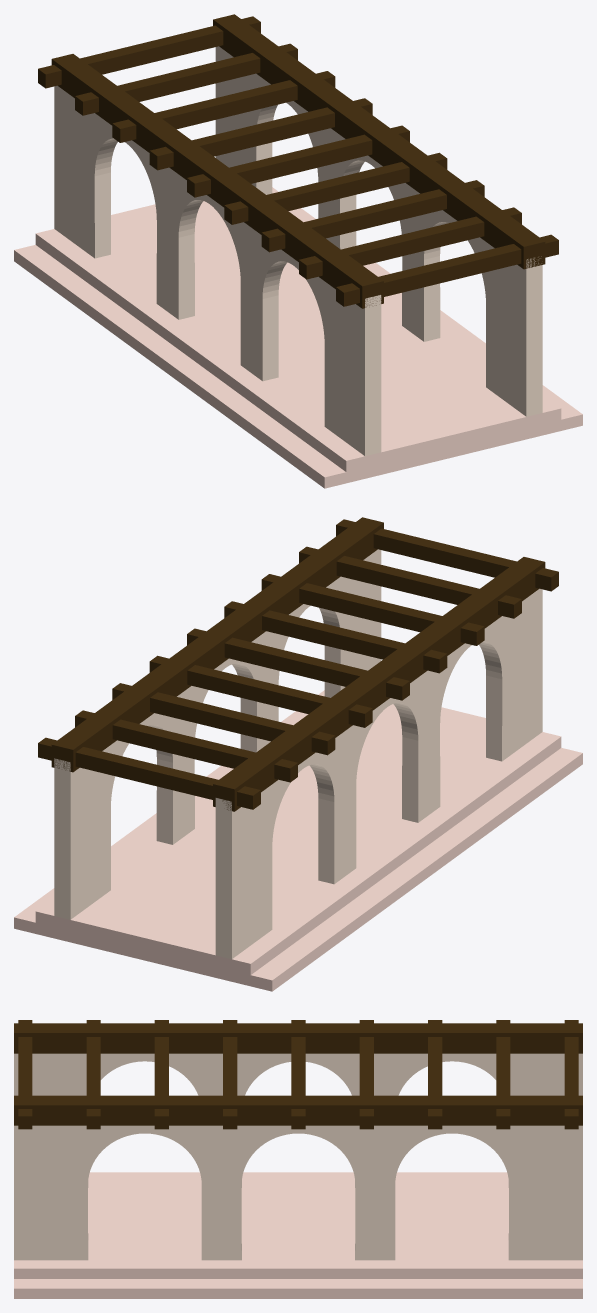
Rendered from spanish_villa_passage_01.glb.
The picture shows the model from 3 angles, top to bottom: view 1: azimuth 30°, elevation 25°; view 2: azimuth 150°, elevation 25°; view 3: azimuth 270°, elevation 25°; orthographic projection. The views are drawn at different scales.
Parts seen in each view (by area): view 1: Floor, Beams, Wall.002, Wall.001, Cube.005, Cube.004, Stair.001, Stair.002; view 2: Floor, Beams, Wall.002, Wall.001, Cube.005, Cube.004, Stair.001, Stair.002; view 3: Floor, Wall.001, Cube.004, Cube.005, Wall.002, Stair.002, Beams.
Boxes of the visible parts, box(x1,y1,x2,y2) form: Floor: box(35, 201, 561, 483); Beams: box(38, 16, 558, 306); Wall.002: box(54, 85, 381, 456); Wall.001: box(215, 46, 542, 416); Cube.005: box(213, 14, 545, 269); Cube.004: box(51, 54, 383, 308); Stair.001: box(14, 245, 346, 488); Stair.002: box(272, 187, 582, 430); Floor: box(35, 704, 561, 986); Beams: box(38, 519, 558, 809); Wall.002: box(215, 588, 542, 959); Wall.001: box(54, 549, 381, 919); Cube.005: box(51, 517, 383, 772); Cube.004: box(213, 557, 545, 811); Stair.001: box(250, 748, 582, 991); Stair.002: box(14, 690, 324, 933); Floor: box(14, 1172, 582, 1278); Wall.001: box(14, 1125, 582, 1260); Cube.004: box(14, 1023, 582, 1053); Cube.005: box(14, 1095, 582, 1125); Wall.002: box(14, 1053, 582, 1187); Stair.002: box(14, 1279, 582, 1298); Beams: box(18, 1020, 578, 1129).
Bounding box in the file's own units: 4.8 × 3.43 × 10.
